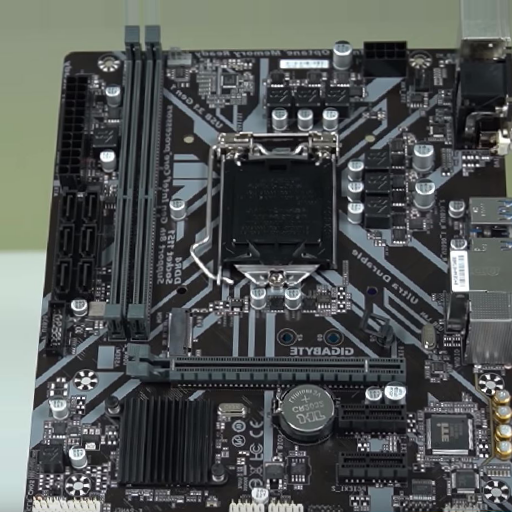CPU: (207, 132, 337, 294)
GPU: (126, 344, 406, 385)
MOTHERBOARD: (25, 28, 512, 511)
RAM: (105, 25, 160, 337)
SSD: (167, 308, 193, 352)
